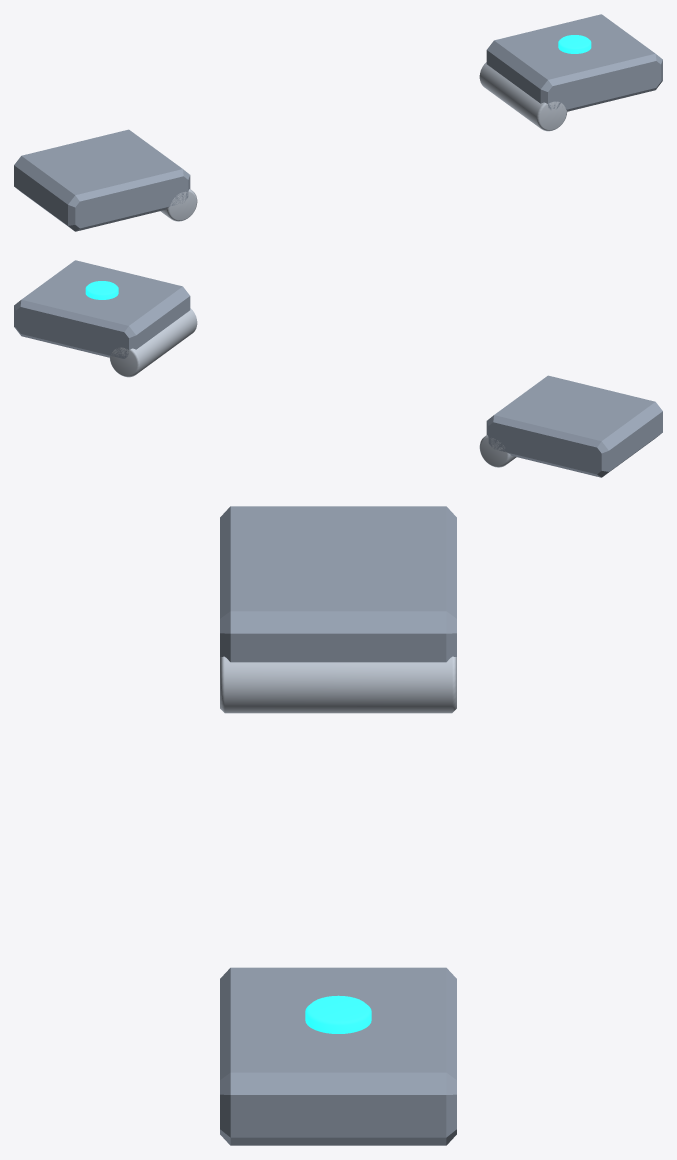
File: tower_skywatch_rate_s2.glb
3 views of the same model, one above another, from view 1: azimuth 30°, elevation 25°; view 2: azimuth 150°, elevation 25°; view 3: azimuth 270°, elevation 25° (orthographic). The views are drawn at different scales.
Visible parts, largest first — view 1: skywatch_belt_guide_r, skywatch_belt_guide_l, skywatch_belt_guide_roller_l, skywatch_belt_guide_roller_r, skywatch_up_rate_l2_stud; view 2: skywatch_belt_guide_r, skywatch_belt_guide_l, skywatch_belt_guide_roller_l, skywatch_belt_guide_roller_r, skywatch_up_rate_l2_stud; view 3: skywatch_belt_guide_l, skywatch_belt_guide_r, skywatch_belt_guide_roller_r, skywatch_up_rate_l2_stud.
Boxes of the visible parts, x1,y1,x2,y2 form: skywatch_belt_guide_r: (14,129,190,231); skywatch_belt_guide_l: (486,14,662,111); skywatch_belt_guide_roller_l: (479,62,567,131); skywatch_belt_guide_roller_r: (160,189,197,221); skywatch_up_rate_l2_stud: (558,35,591,53); skywatch_belt_guide_r: (486,375,662,477); skywatch_belt_guide_l: (14,260,190,358); skywatch_belt_guide_roller_l: (109,308,197,377); skywatch_belt_guide_roller_r: (479,435,516,467); skywatch_up_rate_l2_stud: (85,281,118,299); skywatch_belt_guide_l: (220,967,456,1145); skywatch_belt_guide_r: (220,506,456,662); skywatch_belt_guide_roller_r: (220,656,456,713); skywatch_up_rate_l2_stud: (305,995,371,1033).
Bounding box in the file's own units: 1.16 × 0.105 × 0.2.
